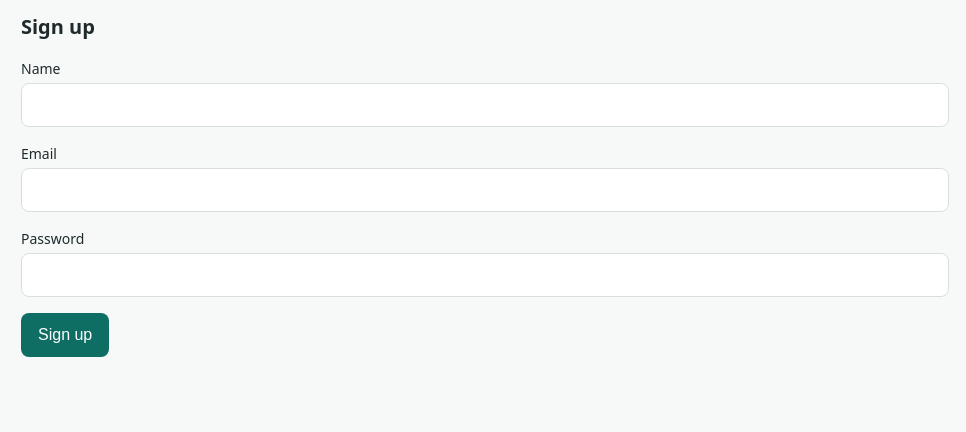
Test case: SignUpPage › shows a validation error when required fields are missing
Click the button "Sign up": (65, 335) [21,313,109,357]
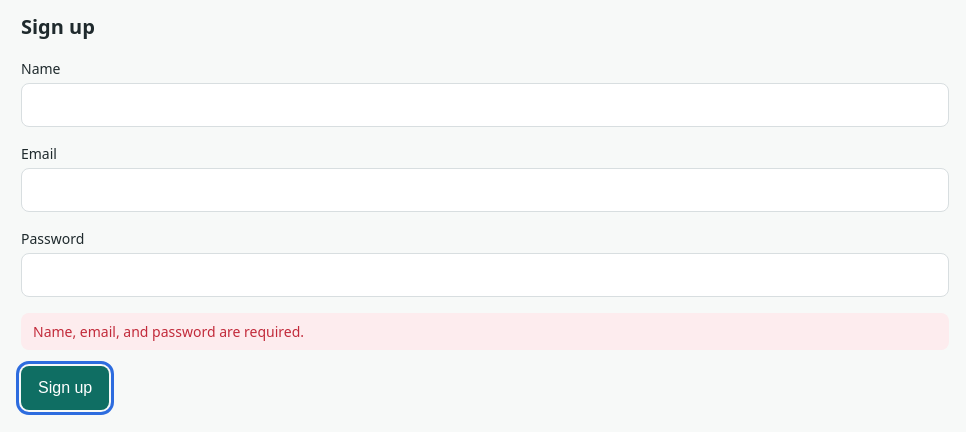
Result: the message reads "Name, email, and password are required." at [33,322,304,341]
